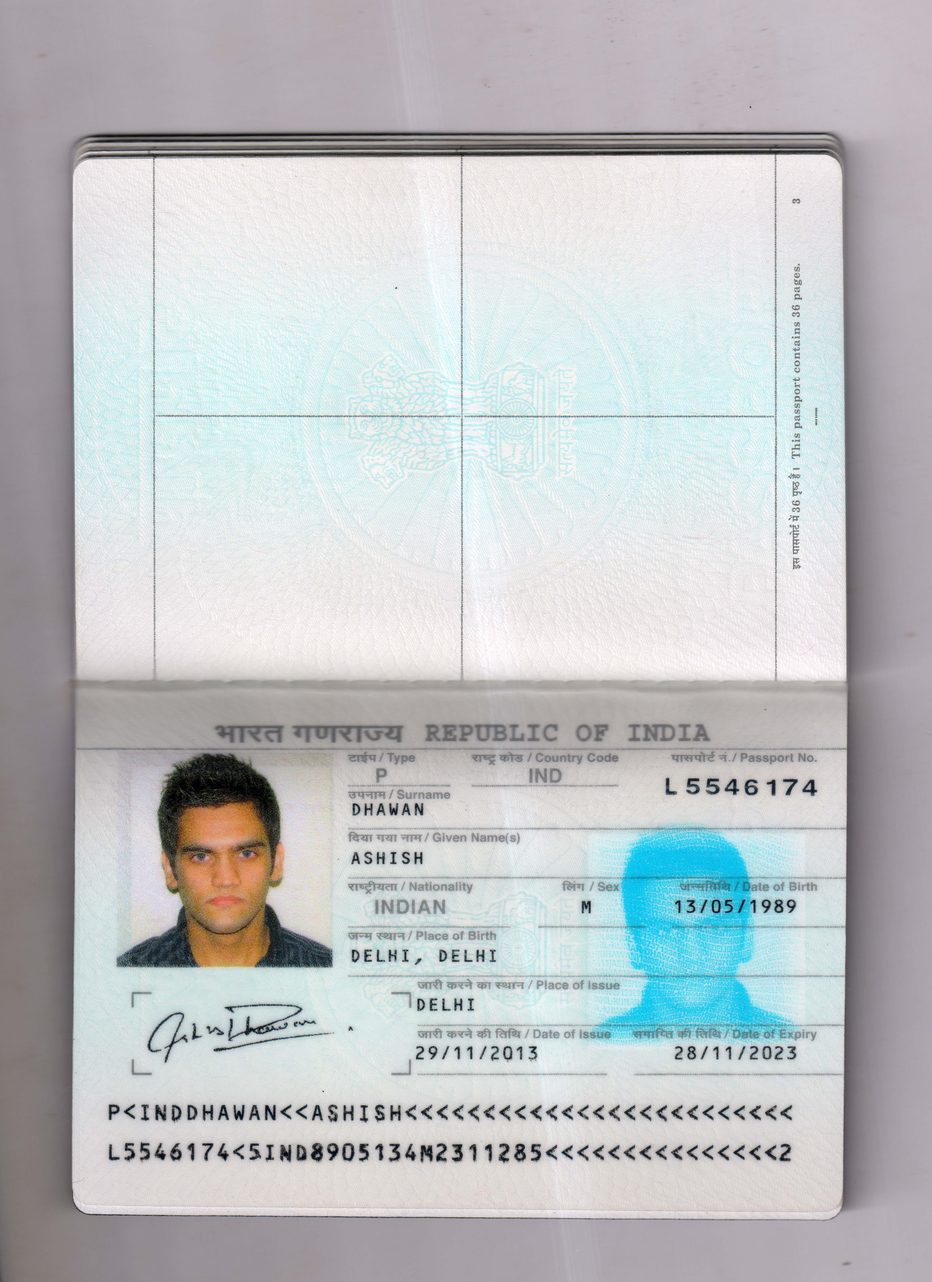DOB: (669, 894, 801, 924)
Surname: (345, 800, 441, 824)
country_code: (522, 765, 571, 790)
date_of_expiry: (666, 1041, 811, 1071)
date_of_issue: (408, 1039, 555, 1074)
details: (94, 1094, 819, 1174)
name: (349, 843, 430, 871)
nationality: (364, 894, 465, 921)
passport_no: (658, 770, 825, 804)
photo: (130, 755, 333, 971)
place_of_birth: (347, 943, 505, 971)
place_of_issue: (412, 990, 476, 1017)
sex: (574, 895, 598, 922)
sign: (143, 1002, 331, 1063)
type: (367, 764, 400, 789)
